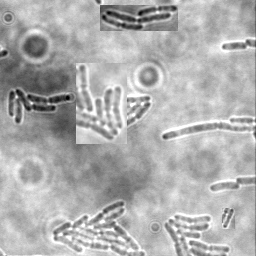Dividing: (161, 123, 255, 142), (221, 41, 248, 52)
Microcolony: (51, 200, 147, 255), (76, 63, 127, 144), (162, 212, 231, 255), (8, 89, 72, 126), (100, 5, 178, 31), (128, 96, 153, 132), (208, 182, 240, 193)
Rod: (222, 208, 235, 229)
